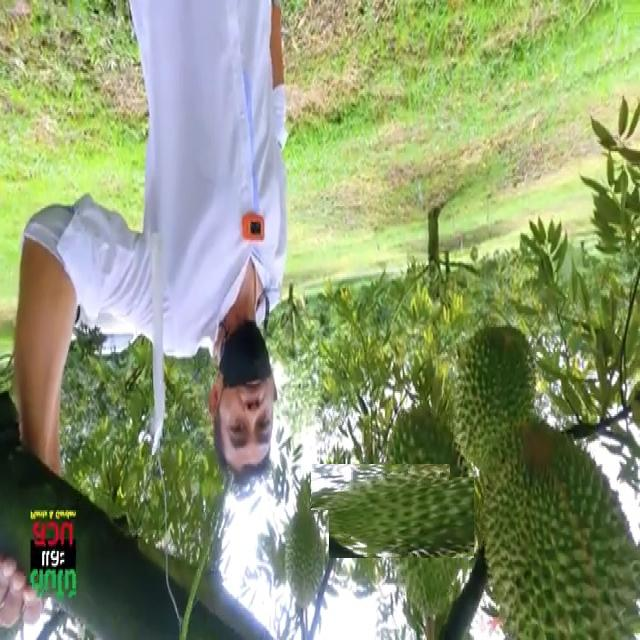durian: (474, 414, 639, 636), (345, 430, 506, 592), (450, 321, 540, 477), (282, 510, 329, 606)
